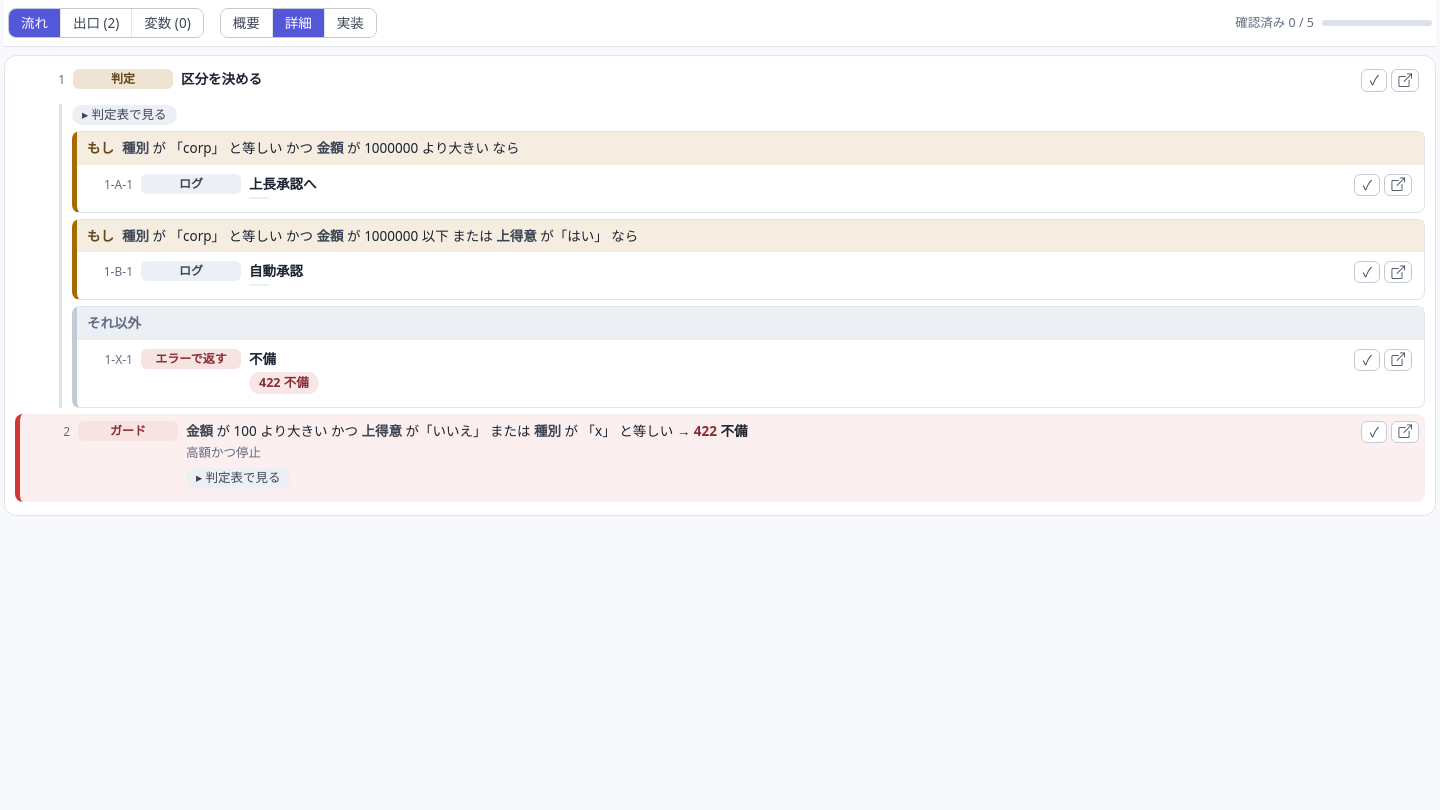
Test: 判定表 › 閲覧中: 分岐に「判定表で見る」が出て、開くと条件の行 × 道の列の表が出る (直す窓口は無い)
The width and height of the screenshot is (1440, 810).
Click the 1st button with test id "pfs-dt-toggle". click: (124, 115)
box: left=72, top=104, right=176, bottom=125
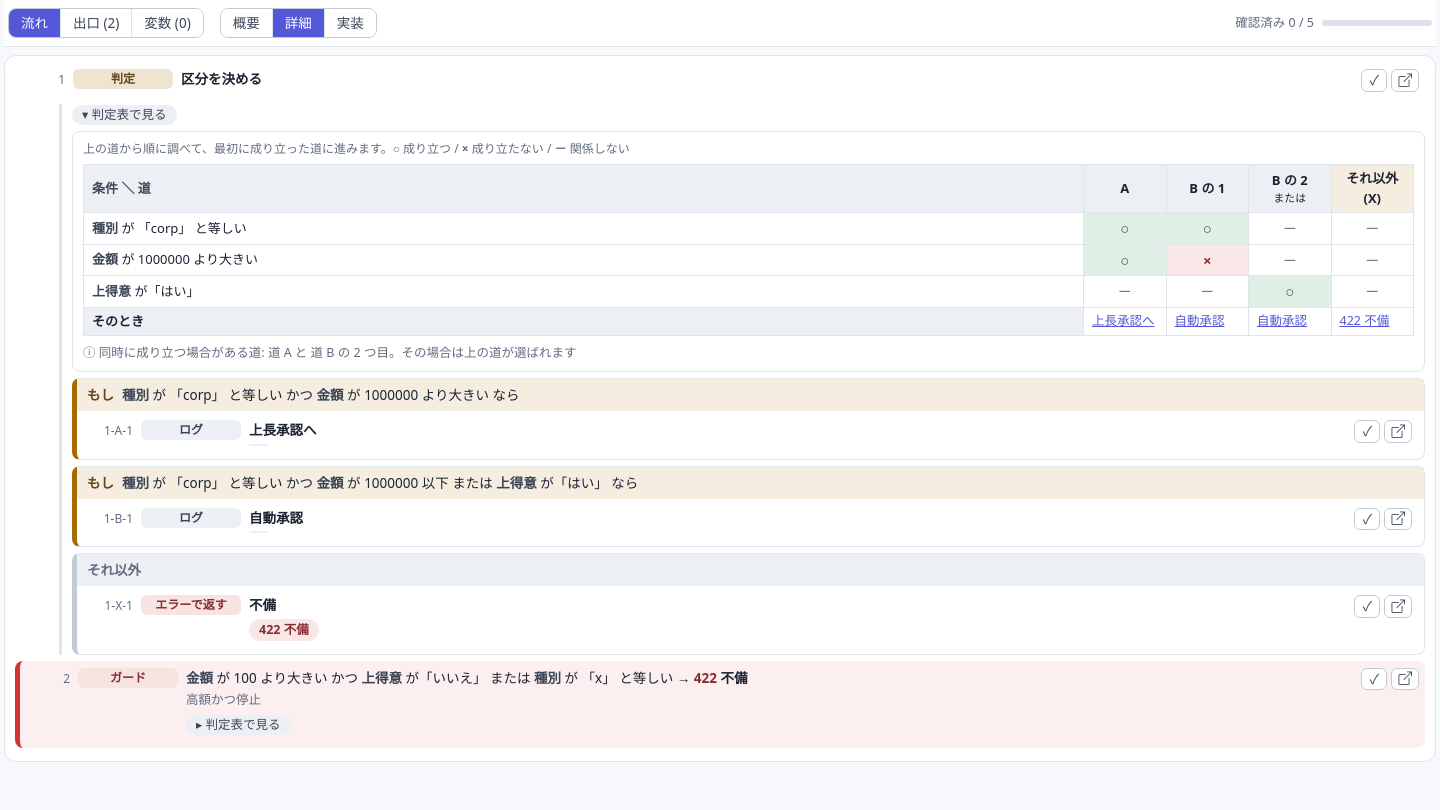
Result: the number of rows is 5 at left=84, top=165, right=1414, bottom=213; left=84, top=213, right=1414, bottom=244; left=84, top=244, right=1414, bottom=276; left=84, top=276, right=1414, bottom=307; left=84, top=307, right=1414, bottom=336
Result: the text "○" next to "上の道から順に調べて、最初に成り立った道に進みます。" is shown at left=393, top=140, right=400, bottom=157
Result: the text "×" next to "成り立つ /" is shown at left=462, top=140, right=469, bottom=157
